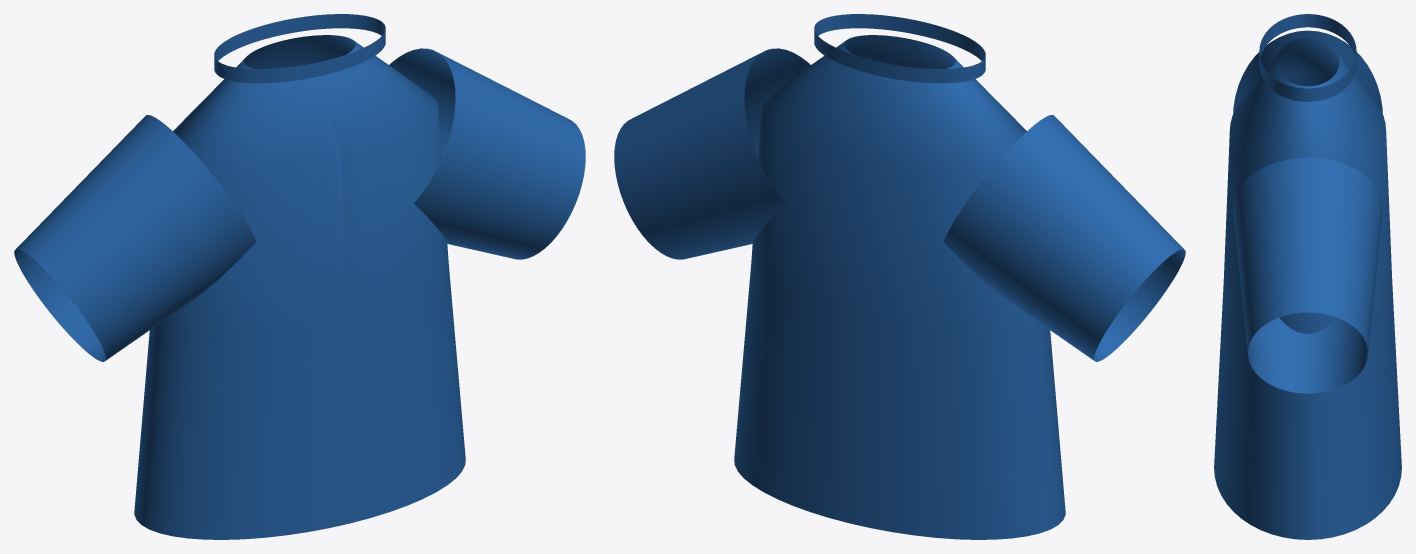
File: export-tee.glb
The picture shows the model from 3 angles, left to right: view 1: azimuth 30°, elevation 25°; view 2: azimuth 150°, elevation 25°; view 3: azimuth 270°, elevation 25°; orthographic projection. The views are drawn at different scales.
Visible parts, largest first — view 1: Body, Sleeve_left, Sleeve_right, Neck_opening; view 2: Body, Sleeve_left, Sleeve_right, Neck_opening; view 3: Body, Sleeve_right, Neck_opening, Sleeve_left.
Boxes of the visible parts, x1,y1,x2,y2 form: Body: [134, 35, 465, 539]; Sleeve_left: [14, 115, 256, 361]; Sleeve_right: [389, 48, 585, 259]; Neck_opening: [214, 14, 385, 83]; Body: [734, 35, 1065, 539]; Sleeve_left: [943, 115, 1185, 361]; Sleeve_right: [614, 48, 810, 259]; Neck_opening: [814, 14, 985, 83]; Body: [1214, 37, 1401, 539]; Sleeve_right: [1233, 157, 1382, 393]; Neck_opening: [1259, 14, 1356, 101]; Sleeve_left: [1233, 30, 1382, 113].
Bounding box in the file's own units: 1 × 0.78 × 0.319.
